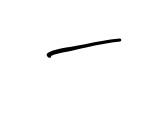minus: (47, 39, 120, 58)
